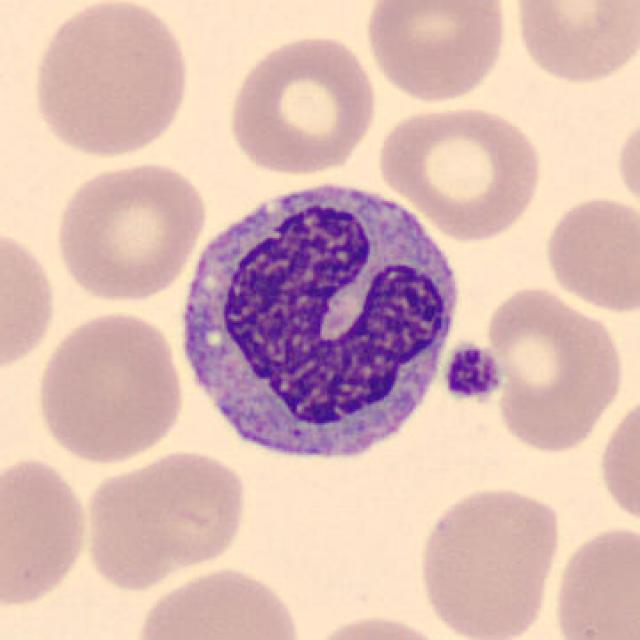Monocyte: (169, 168, 469, 480)
Platelets: (441, 340, 505, 406)
RBC: (25, 2, 194, 160), (478, 282, 628, 457), (78, 446, 251, 592), (373, 99, 548, 243), (32, 307, 188, 465), (412, 481, 566, 640), (50, 157, 210, 305), (222, 30, 380, 178), (361, 0, 512, 106), (0, 453, 92, 611), (130, 562, 306, 640), (540, 190, 638, 316), (507, 0, 638, 88), (550, 522, 638, 640), (0, 220, 60, 378), (594, 388, 640, 534), (301, 610, 458, 640), (614, 107, 638, 220)
